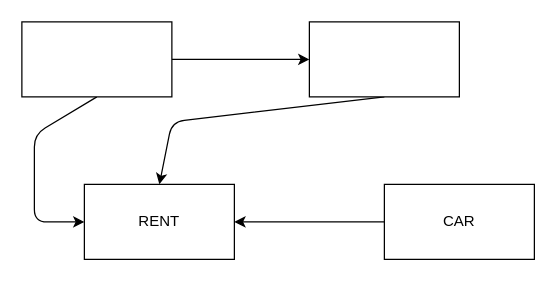
Some shapes in this 556 by 281 pixel diagram are drawn without their labels. Here are the shapes that lost their labels. From the top down, the centre of each, then its label:
At point 96,59: "EMPLOYEE".
At point 383,59: "CUSTOMER".
